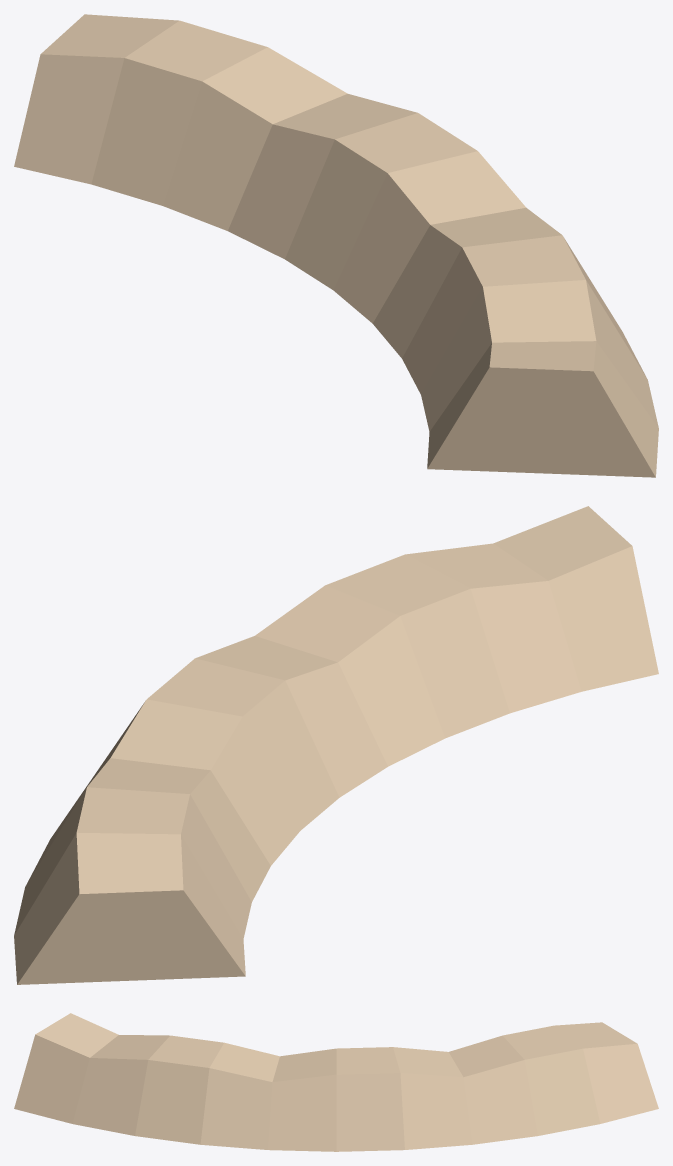
Rendered from MOONSHIFT_ENV_Regolith_Berm.glb.
3 views of the same model, one above another, from view 1: azimuth 30°, elevation 25°; view 2: azimuth 150°, elevation 25°; view 3: azimuth 270°, elevation 25° (orthographic). The views are drawn at different scales.
Parts seen in each view (by area): view 1: Berm_Mound; view 2: Berm_Mound; view 3: Berm_Mound.
Part boxes in pixels (left/top/right/bottom): Berm_Mound: left=14, top=14, right=658, bottom=477; Berm_Mound: left=14, top=506, right=658, bottom=984; Berm_Mound: left=14, top=1013, right=658, bottom=1151.
Bounding box in the file's own units: 1.72 × 0.55 × 5.22.
